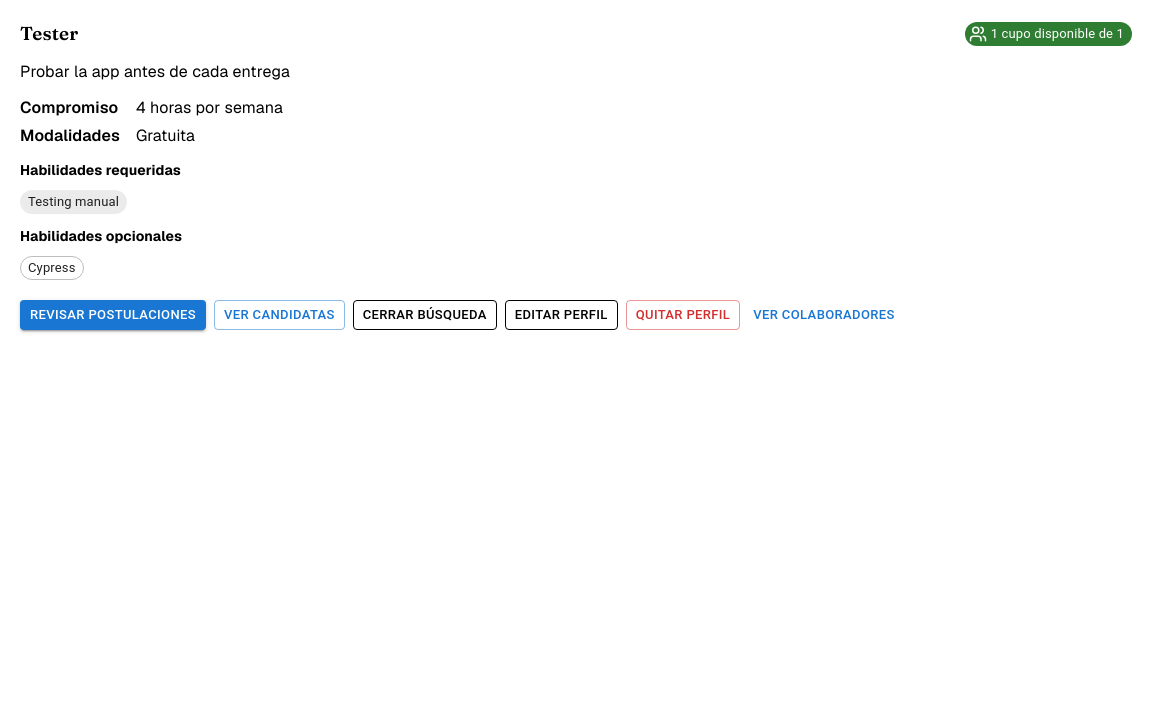
PerfilRequerido › el dueño cierra la búsqueda después de confirmar
Click the button "Cerrar búsqueda". click: (425, 315)
box: [353, 300, 497, 330]
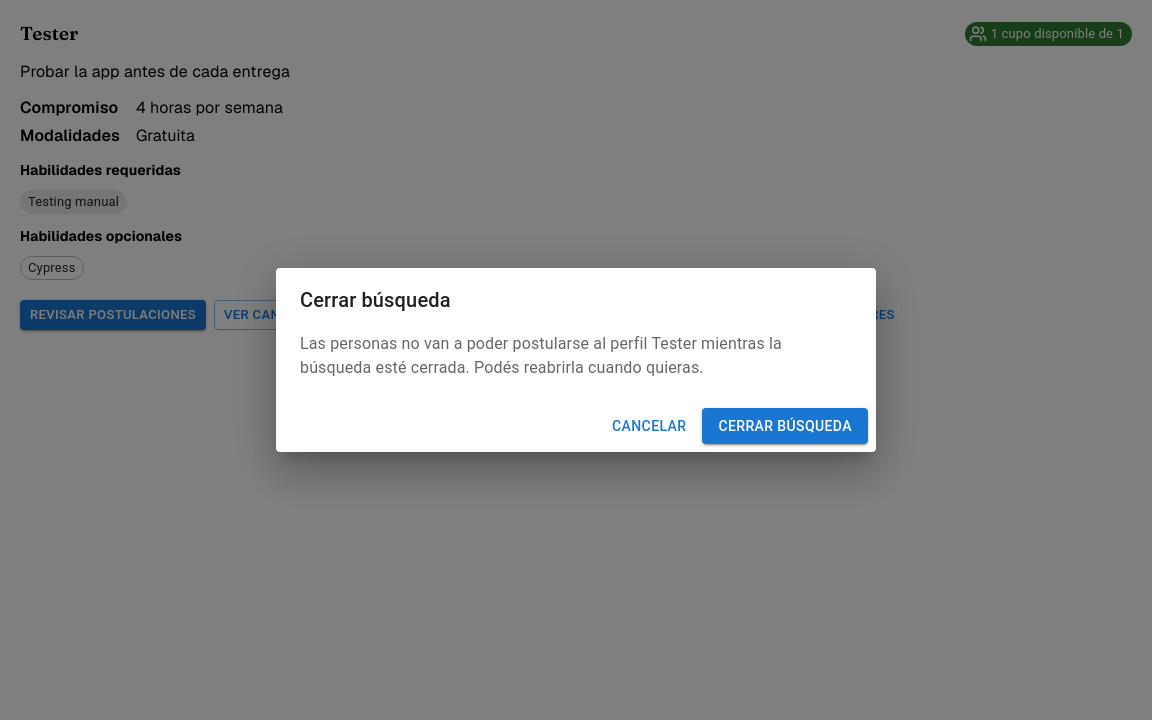
Expected: the dialog "Cerrar búsqueda" shows "Las personas no van a poder postularse al perfil Tester mientras la búsqueda esté cerrada. Podés reabrirla cuando quieras.", [300, 334, 782, 377]
Click the button "Cerrar búsqueda". click: (785, 426)
box: [702, 408, 868, 444]
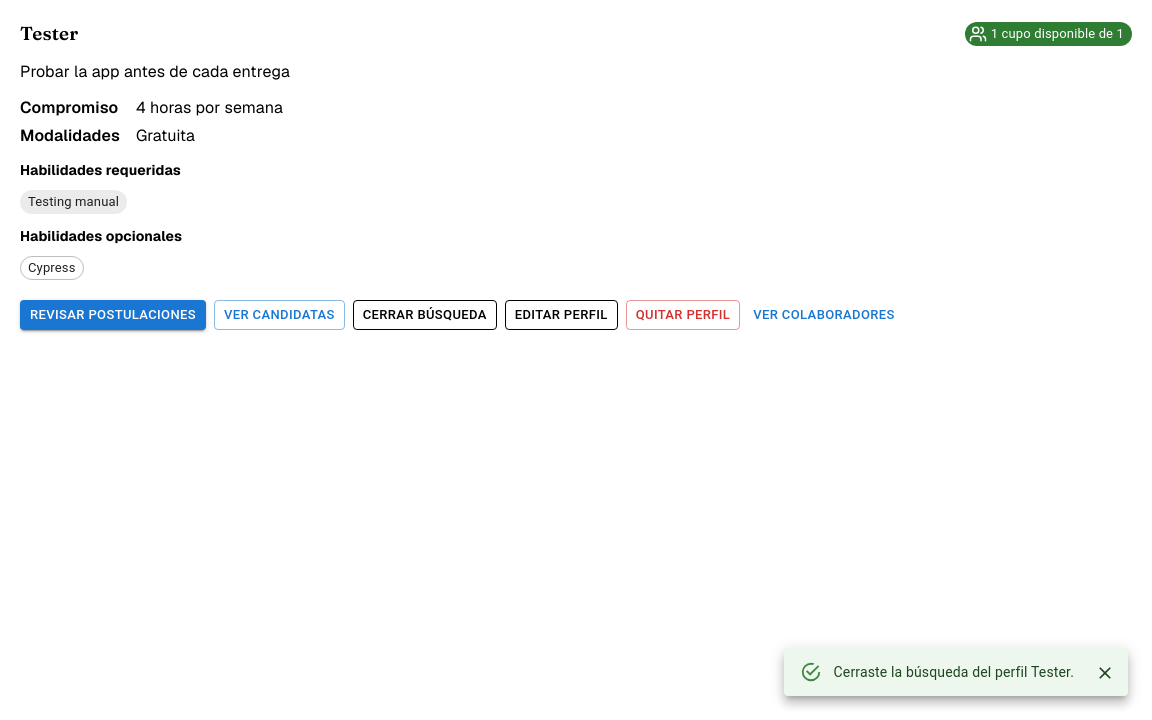
Expected: the text "Cerraste la búsqueda del perfil Tester." is shown, [834, 664, 1074, 680]
Expected: the dialog is gone
